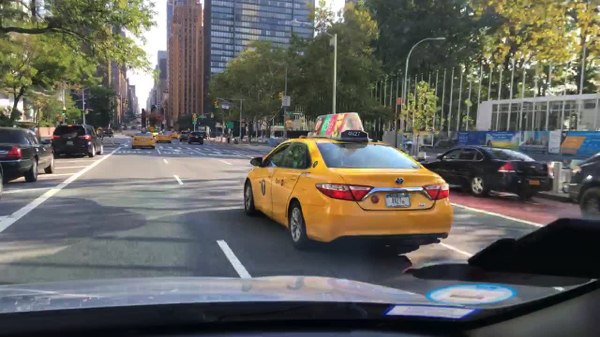car: (239, 112, 453, 253), (416, 145, 557, 204), (0, 124, 59, 186), (559, 150, 600, 221), (50, 122, 106, 162), (129, 129, 156, 151), (185, 131, 206, 147), (0, 153, 7, 199), (110, 121, 133, 132), (99, 126, 117, 140), (164, 131, 181, 143), (154, 131, 171, 143), (179, 130, 192, 141), (139, 126, 149, 135), (151, 128, 162, 136), (130, 123, 139, 131), (96, 126, 103, 136), (134, 119, 142, 125)
traffic light: (278, 91, 284, 103), (215, 100, 221, 111), (123, 98, 128, 109), (213, 100, 218, 109), (191, 114, 198, 120), (209, 114, 216, 119)
traffic sign: (281, 96, 292, 109), (220, 101, 231, 112), (395, 96, 405, 107), (226, 119, 236, 129), (214, 121, 222, 131), (197, 114, 209, 120), (160, 117, 168, 125), (84, 108, 95, 113), (192, 120, 199, 127)
